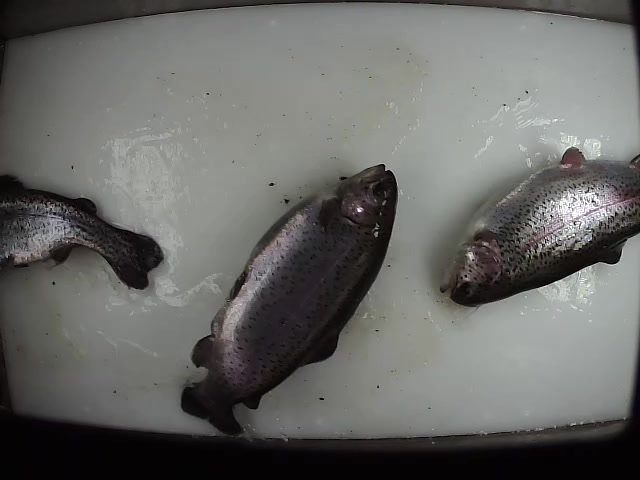fish: (177, 162, 400, 437), (1, 174, 169, 291)
